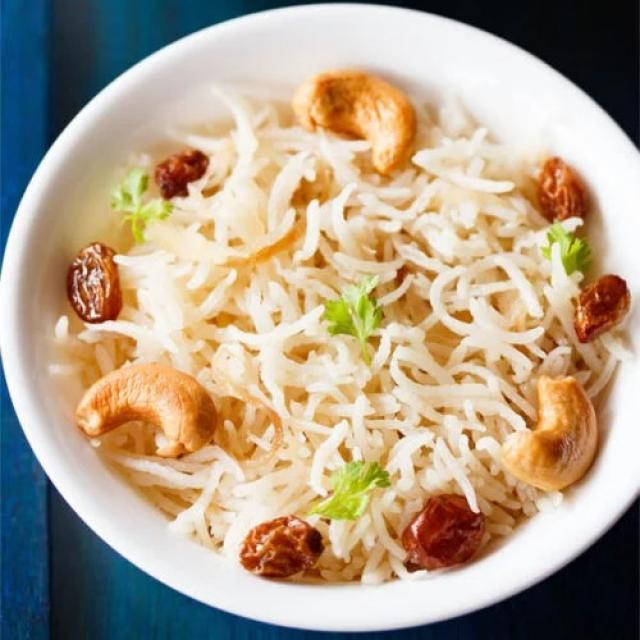nei satham: (21, 50, 640, 603)
